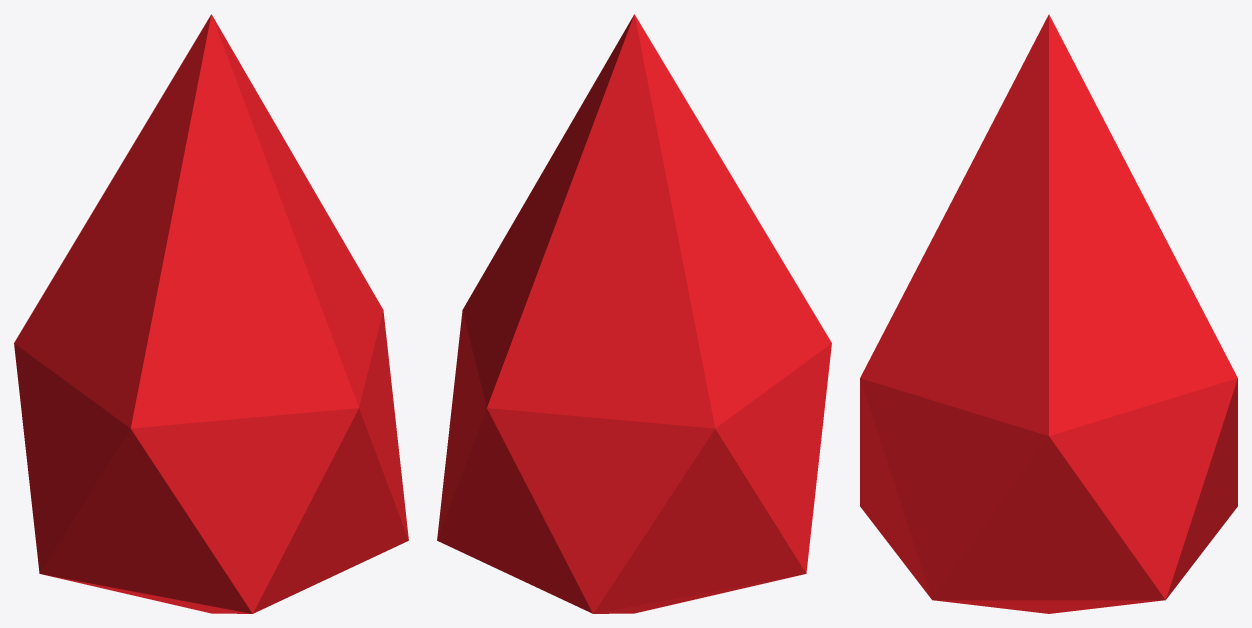
Rendered from blood.fbx.
The picture shows the model from 3 angles, left to right: view 1: azimuth 30°, elevation 25°; view 2: azimuth 150°, elevation 25°; view 3: azimuth 270°, elevation 25°; orthographic projection.
Parts seen in each view (by area): view 1: blood; view 2: blood; view 3: blood.
Boxes of the visible parts, <box> form: blood: <box>14,14,408,613</box>; blood: <box>437,14,831,613</box>; blood: <box>860,14,1237,613</box>.
Size of the model in its own units: 1701 by 2980 by 1789.
1 material, 1 textured.
